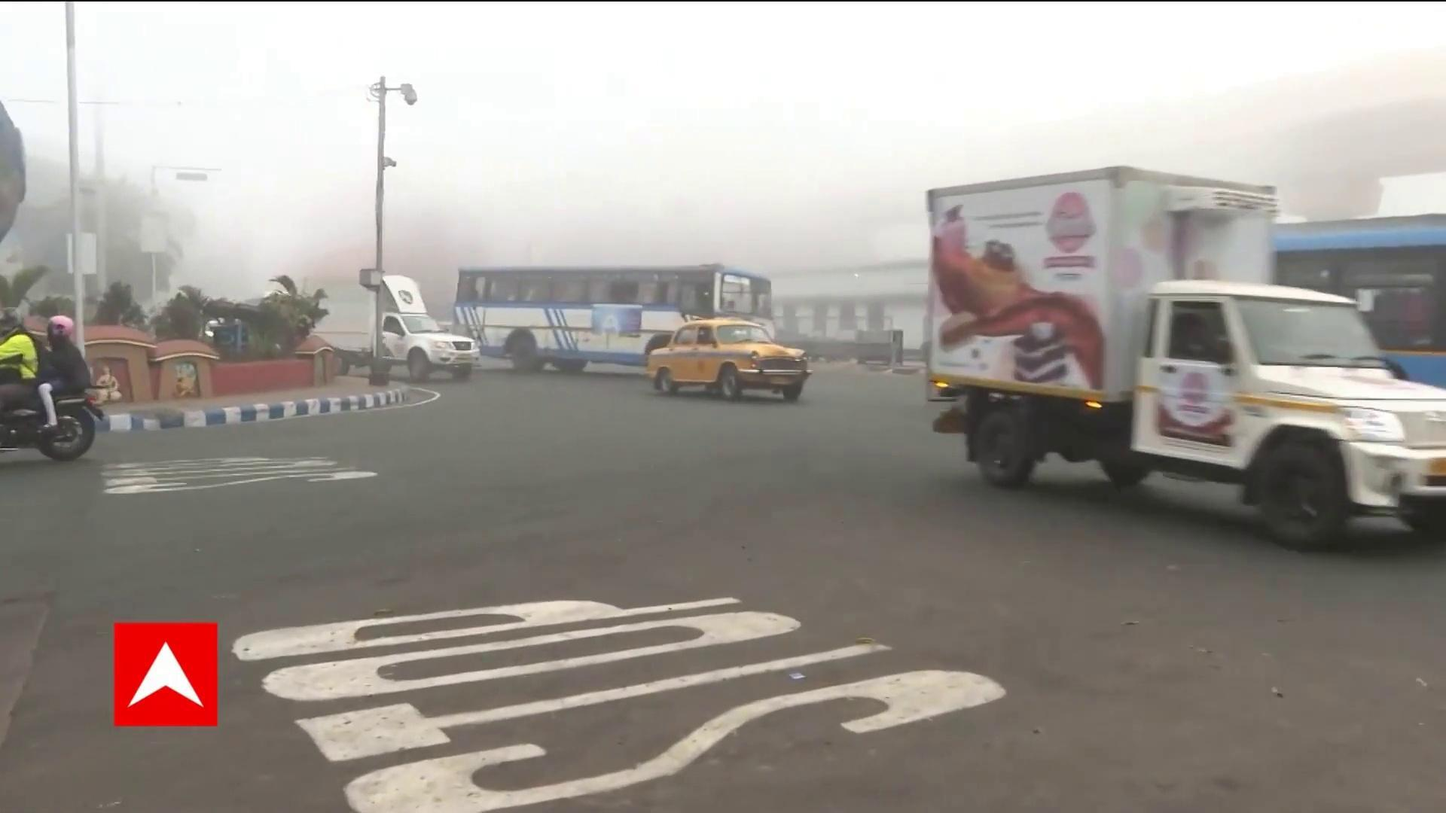Bike: (0, 309, 110, 473)
Bus: (459, 266, 773, 379)
Car: (640, 317, 816, 406)
Truck: (919, 159, 1446, 556), (288, 274, 485, 387)
